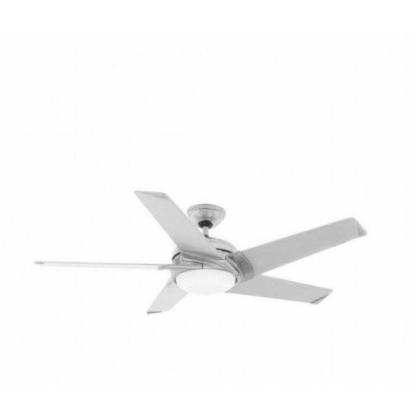ceiling-fan: (32, 188, 366, 314)
